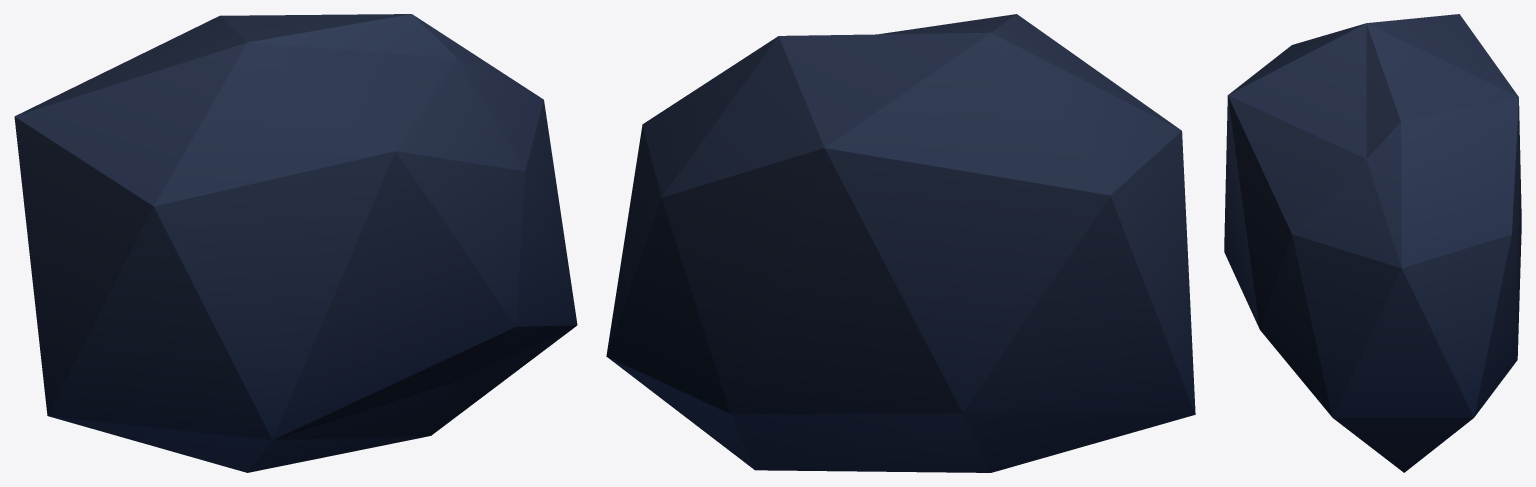
File: Rock_2.glb
3 renders of one model, left to right at view 1: azimuth 30°, elevation 25°; view 2: azimuth 150°, elevation 25°; view 3: azimuth 270°, elevation 25°, orthographic. The views are drawn at different scales.
Visible parts, largest first — view 1: lamplighter__Rock_2__stone; view 2: lamplighter__Rock_2__stone; view 3: lamplighter__Rock_2__stone.
Boxes of the visible parts, <box> form: lamplighter__Rock_2__stone: <box>14,14,577,472</box>; lamplighter__Rock_2__stone: <box>606,14,1195,472</box>; lamplighter__Rock_2__stone: <box>1224,14,1521,472</box>.
Size of the model in its own units: 0.45 by 0.3824 by 0.2796.
